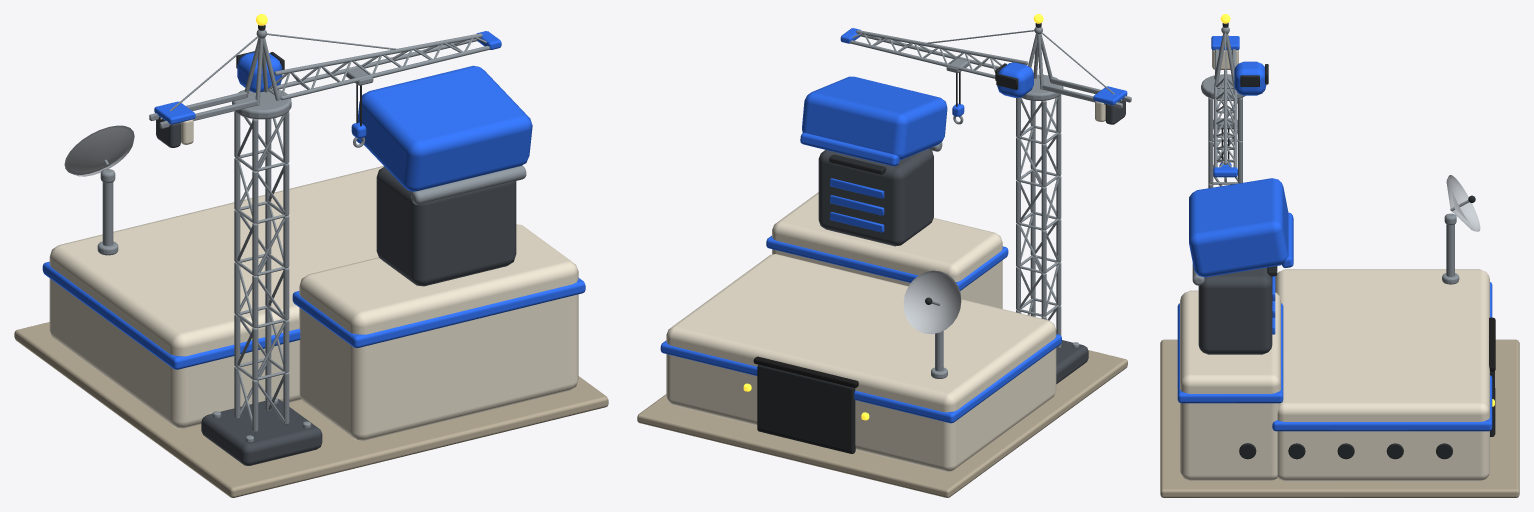
The model's file is command_center.glb.
3 views of the same model, side by side, from view 1: azimuth 30°, elevation 25°; view 2: azimuth 150°, elevation 25°; view 3: azimuth 270°, elevation 25° (orthographic). The views are drawn at different scales.
Visible parts, largest first — view 1: stage_1__M_CreamPlastic, stage_0__M_SugarPad, head__M_Team, stage_2__M_SmokePlastic, spinner__M_SpringSteel, stage_2__M_SpringSteel, stage_1__M_SmokePlastic, stage_3__M_SpringSteel, stage_2__M_Team, stage_1__M_Team, dish__M_Foil, stage_1__M_SpringSteel (+2 smaller); view 2: stage_1__M_CreamPlastic, stage_0__M_SugarPad, head__M_Team, stage_2__M_SmokePlastic, door__M_Dark, spinner__M_SpringSteel, stage_2__M_SpringSteel, stage_2__M_Team, stage_1__M_Team, dish__M_Foil, stage_3__M_SpringSteel, spinner__M_Team (+3 smaller); view 3: stage_1__M_CreamPlastic, stage_0__M_SugarPad, head__M_Team, stage_2__M_SmokePlastic, spinner__M_SpringSteel, stage_1__M_Team, stage_2__M_Team, spinner__M_Team, stage_3__M_SpringSteel, stage_1__M_Dark, dish__M_Foil, stage_2__M_SpringSteel.
Part boxes in pixels (x1,y1,x2,y2): stage_1__M_CreamPlastic: (49,166,578,440); stage_0__M_SugarPad: (14,322,608,497); head__M_Team: (356,65,532,191); stage_2__M_SmokePlastic: (376,166,516,286); spinner__M_SpringSteel: (149,29,489,128); stage_2__M_SpringSteel: (97,182,289,379); stage_1__M_SmokePlastic: (201,399,322,465); stage_3__M_SpringSteel: (234,111,289,223); stage_2__M_Team: (292,278,585,347); stage_1__M_Team: (42,261,300,369); dish__M_Foil: (64,125,134,176); stage_1__M_SpringSteel: (212,358,311,442); stage_1__M_CreamPlastic: (666,192,1056,471); stage_0__M_SugarPad: (637,350,1127,497); head__M_Team: (800,76,947,166); stage_2__M_SmokePlastic: (818,148,933,246); door__M_Dark: (757,364,855,453); spinner__M_SpringSteel: (850,27,1131,108); stage_2__M_SpringSteel: (931,170,1061,378); stage_2__M_Team: (766,178,1008,290); stage_1__M_Team: (660,334,1061,423); dish__M_Foil: (903,270,961,334); stage_3__M_SpringSteel: (1016,94,1061,187); spinner__M_Team: (840,28,1127,105); stage_1__M_CreamPlastic: (1180,269,1489,481); stage_0__M_SugarPad: (1160,339,1519,497); head__M_Team: (1189,178,1293,277); stage_2__M_SmokePlastic: (1198,267,1272,354); spinner__M_SpringSteel: (1201,27,1245,167); stage_1__M_Team: (1272,282,1492,431); stage_2__M_Team: (1177,276,1283,403); spinner__M_Team: (1211,36,1266,177); stage_3__M_SpringSteel: (1208,97,1242,184); stage_1__M_Dark: (1239,443,1452,459); dish__M_Foil: (1446,175,1480,231); stage_2__M_SpringSteel: (1208,175,1459,284).
Size of the model in its own units: 3.21 by 3.24 by 2.92.
